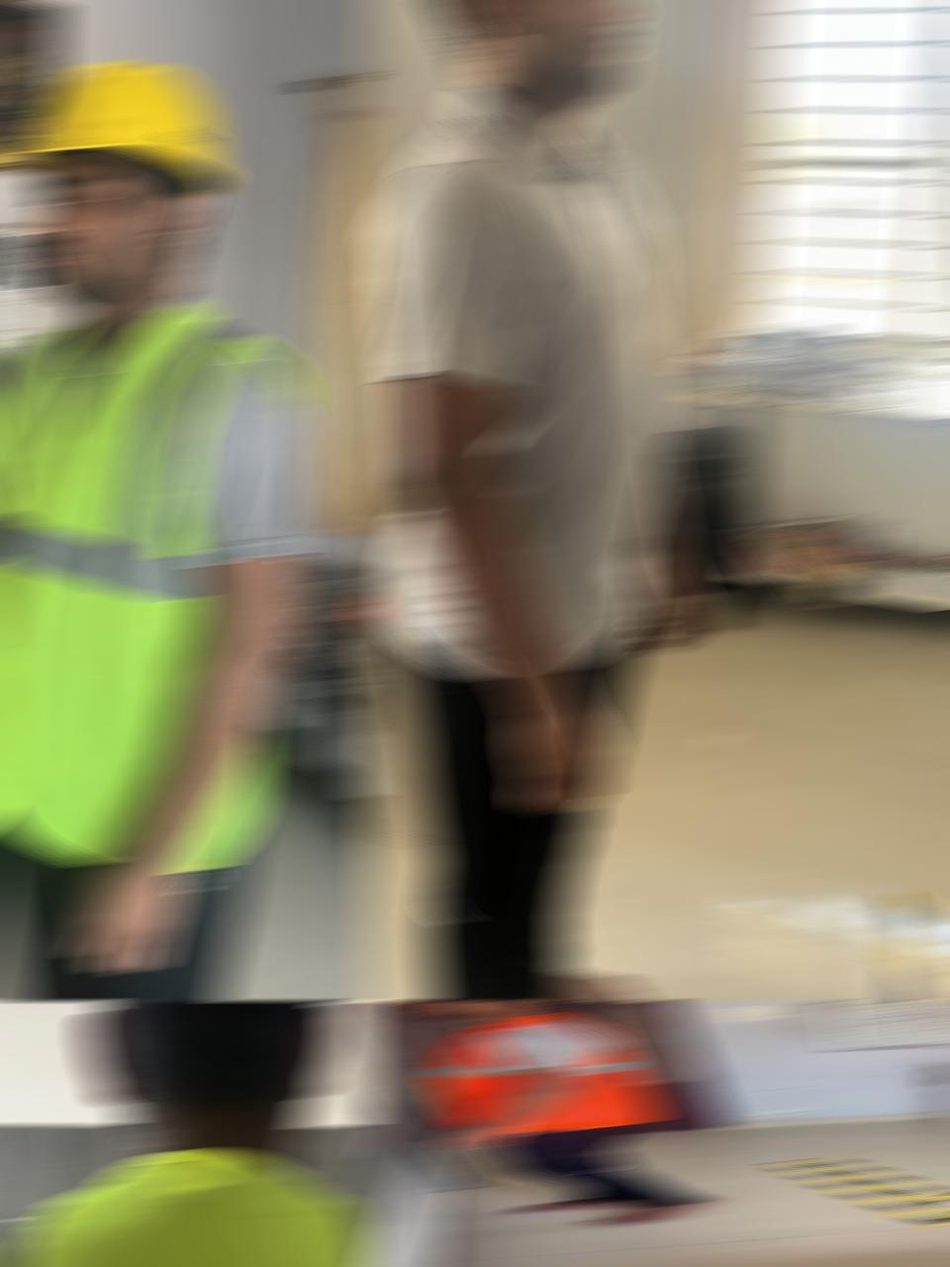BorderLine: (762, 1159, 950, 1224), (885, 891, 929, 1000)
Helmet: (0, 59, 229, 199)
No_Helmet: (87, 1001, 343, 1121), (414, 0, 640, 109)
No_Vest: (364, 85, 667, 678)
Person: (364, 0, 704, 1000), (0, 59, 310, 1000), (0, 1001, 378, 1266), (407, 1001, 714, 1224)
Vest: (0, 295, 311, 869), (0, 1149, 378, 1266), (431, 1012, 663, 1131)
